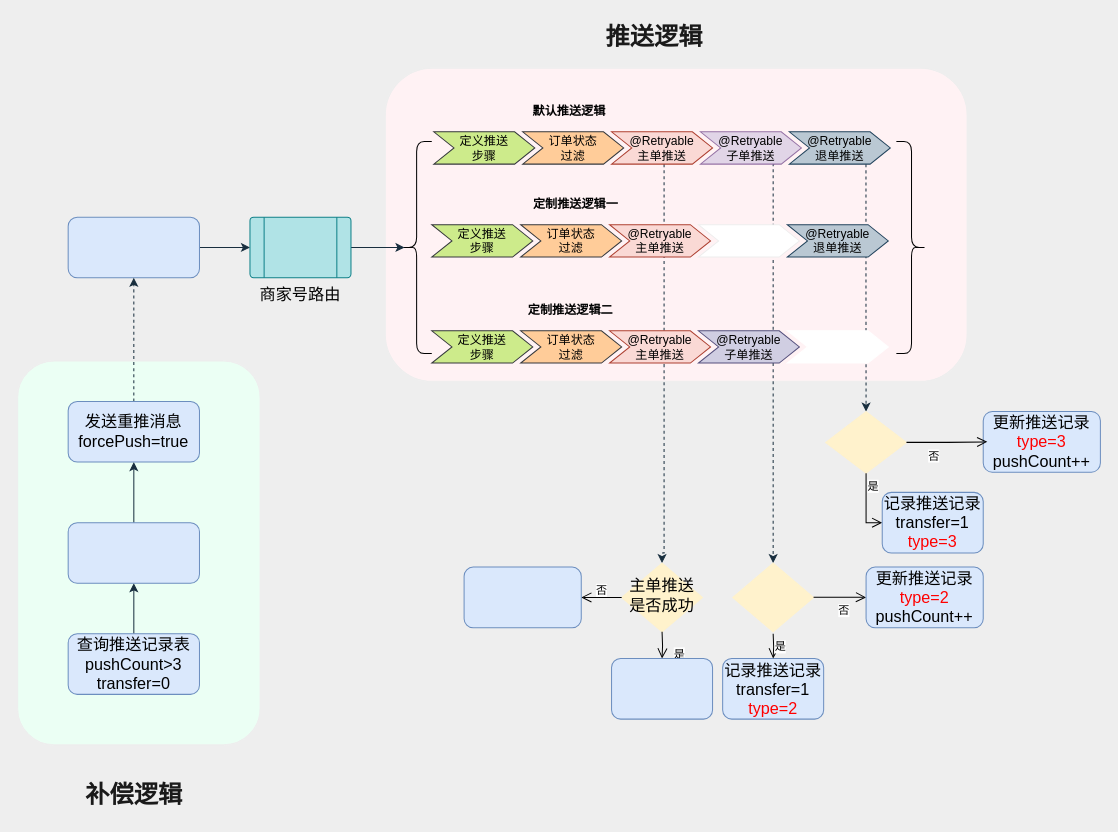
Image size: 1118x832. Some labels were removed from this diagram. The shapes that lost their labels are listed below. From the top down, each one's centre as x and y in pixels, then its label:
At point (133, 247): "监听订单重推消息 （forcePush）".
At point (865, 442): "退单推送 是否成功".
At point (133, 552): "调用重推接口".
At point (522, 597): "更新推送记录 type=1 pushCount++".
At point (773, 597): "子单推送 是否成功".
At point (662, 688): "记录推送记录 transfer=1 type=1".
